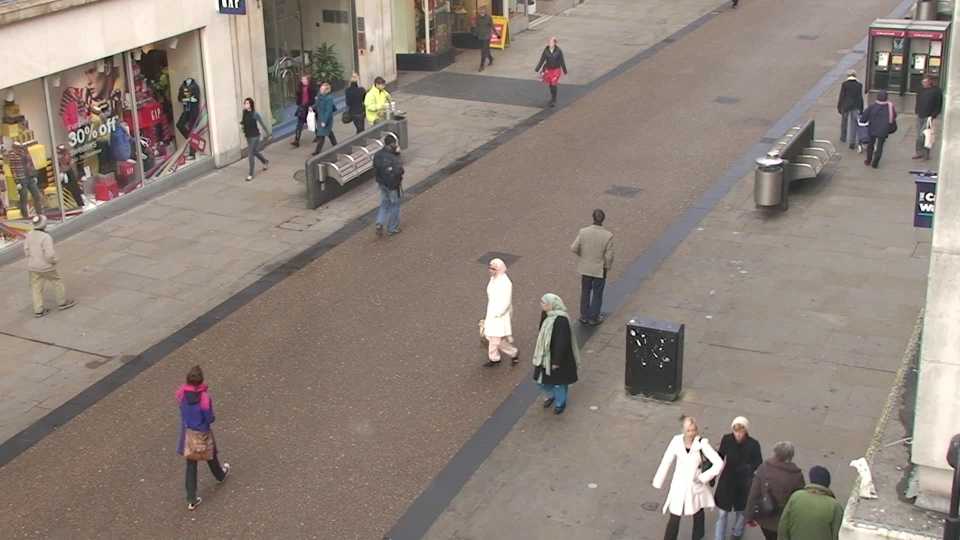pedestrian: (170, 355, 233, 511), (707, 404, 767, 540), (658, 405, 717, 540), (749, 427, 812, 540), (18, 209, 76, 327), (528, 286, 572, 427), (783, 450, 848, 540), (478, 251, 521, 383), (579, 204, 617, 324), (901, 72, 944, 161), (375, 132, 411, 231), (858, 88, 897, 179), (832, 65, 868, 150), (235, 94, 269, 182), (311, 78, 343, 162), (292, 70, 323, 152), (367, 74, 397, 157), (341, 69, 371, 151), (540, 34, 566, 107), (474, 4, 497, 68)
